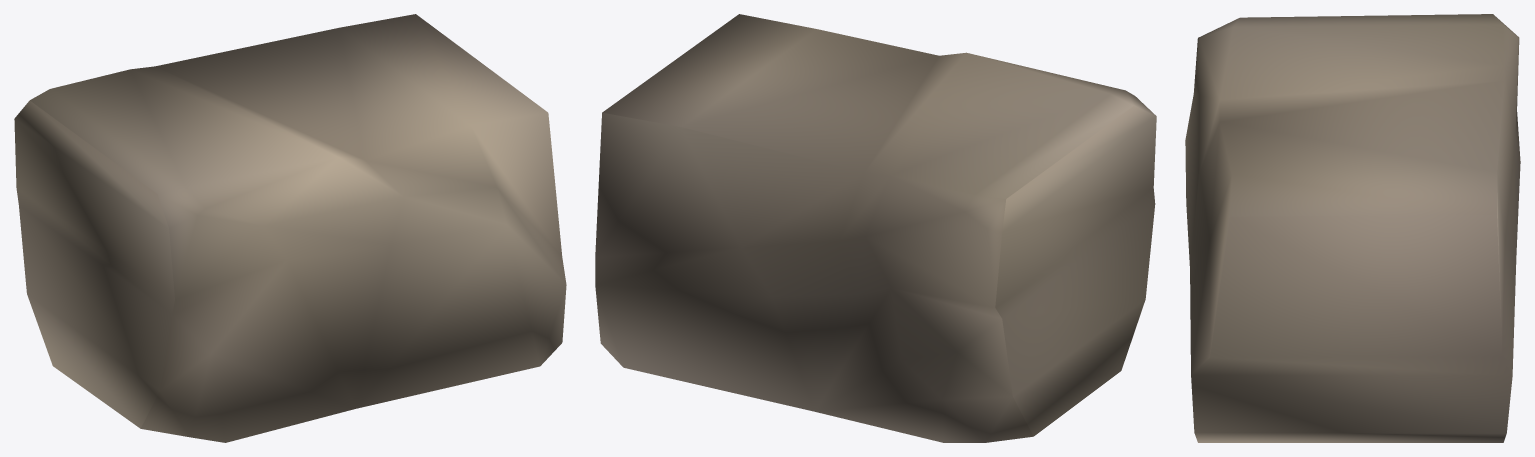
File: brick_a.glb
3 renders of one model, left to right at view 1: azimuth 30°, elevation 25°; view 2: azimuth 150°, elevation 25°; view 3: azimuth 270°, elevation 25°, orthographic. The views are drawn at different scales.
Parts seen in each view (by area): view 1: brick_a; view 2: brick_a; view 3: brick_a.
Boxes of the visible parts, left/top/right/bottom form: brick_a: left=14, top=14, right=566, bottom=442; brick_a: left=595, top=14, right=1156, bottom=442; brick_a: left=1185, top=14, right=1520, bottom=442.
Bounding box in the file's own units: 0.3456 × 0.208 × 0.2502.
